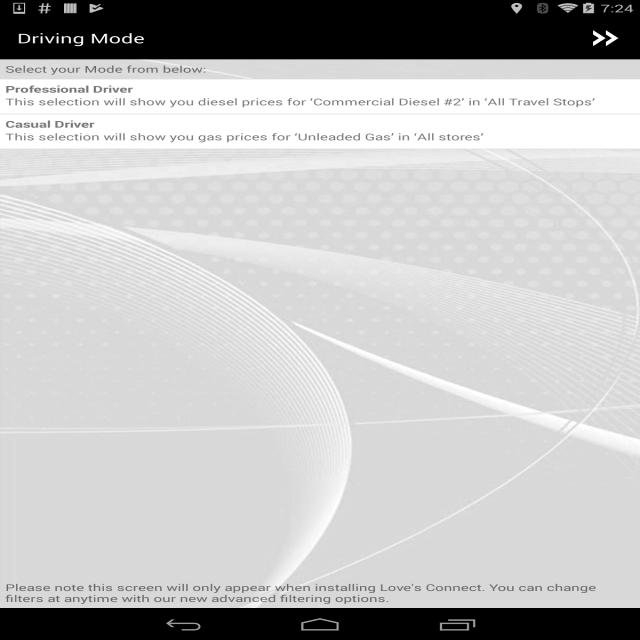ImageButton: (571, 22, 627, 48)
TextView: (0, 78, 600, 110), (0, 578, 626, 606), (0, 122, 492, 144), (9, 32, 155, 49), (4, 64, 206, 76)
